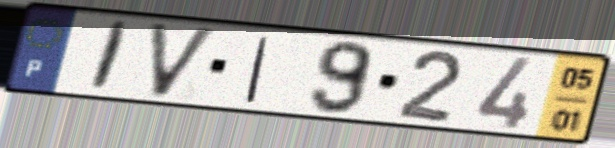2: (395, 48, 467, 126)
4: (472, 53, 537, 133)
9: (303, 38, 377, 118)
I: (85, 18, 135, 94), (241, 34, 274, 106)
V: (145, 20, 222, 102)
